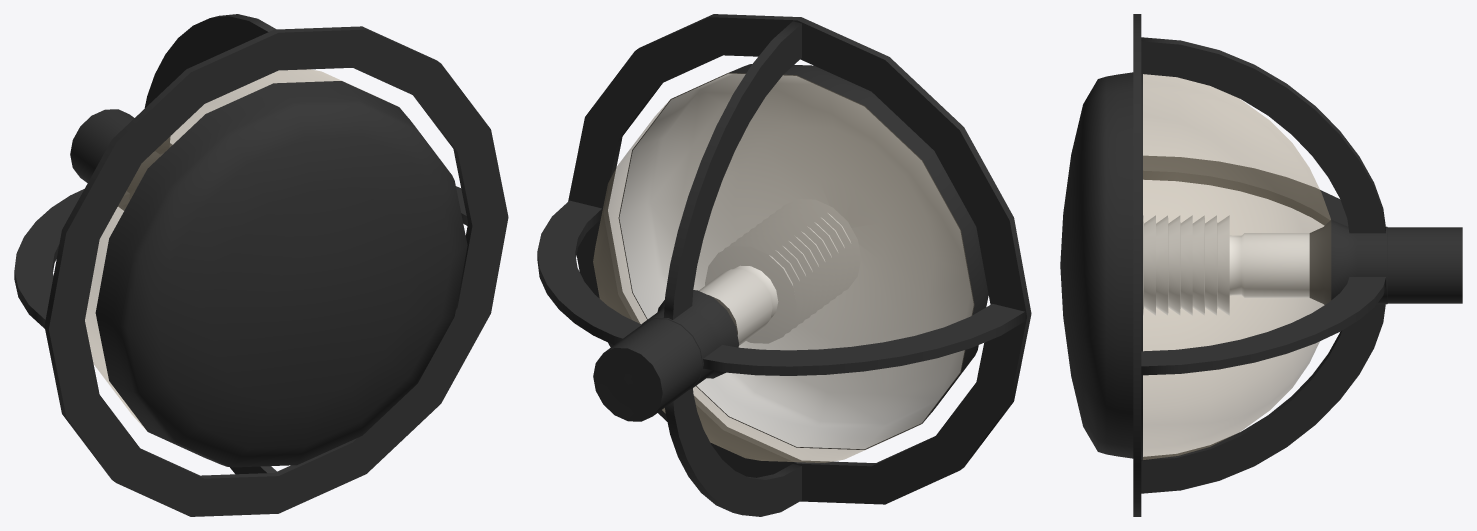
Rendered from Urbi_3_Basket.obj.
3 renders of one model, left to right at view 1: azimuth 30°, elevation 25°; view 2: azimuth 150°, elevation 25°; view 3: azimuth 270°, elevation 25°, orthographic. The views are drawn at different scales.
Visible parts, largest first — view 1: Urbi_3_Basket, Urbi_3_Basket_Streben, Urbi_3_Basket_Glas; view 2: Urbi_3_Basket, Urbi_3_Basket_Glas, Urbi_3_Basket_Streben; view 3: Urbi_3_Basket_Glas, Urbi_3_Basket, Urbi_3_Basket_Streben.
Boxes of the visible parts, x1,y1,x2,y2 form: Urbi_3_Basket: (44,26,508,516); Urbi_3_Basket_Streben: (14,14,467,474); Urbi_3_Basket_Glas: (85,69,380,430); Urbi_3_Basket: (568,14,1031,504); Urbi_3_Basket_Glas: (593,73,974,462); Urbi_3_Basket_Streben: (537,21,1025,516); Urbi_3_Basket_Glas: (1143,74,1330,459); Urbi_3_Basket: (1060,14,1462,516); Urbi_3_Basket_Streben: (1141,37,1385,493).
Size of the model in its own units: 0.66 by 0.66 by 0.5275.
5 materials, 4 textured.
